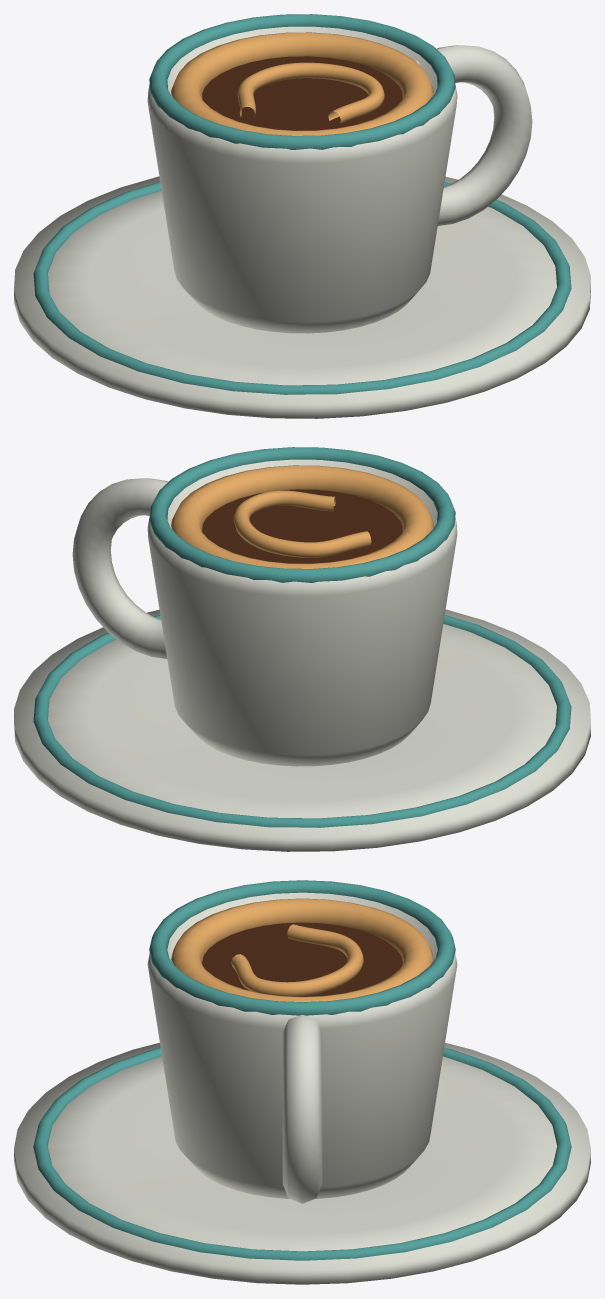
Rendered from espresso.glb.
The picture shows the model from 3 angles, top to bottom: view 1: azimuth 30°, elevation 25°; view 2: azimuth 150°, elevation 25°; view 3: azimuth 270°, elevation 25°; orthographic projection.
Visible parts, largest first — view 1: espresso_mesh; view 2: espresso_mesh; view 3: espresso_mesh.
Boxes of the visible parts, x1,y1,x2,y2 form: espresso_mesh: (14, 14, 590, 418); espresso_mesh: (14, 447, 590, 851); espresso_mesh: (14, 880, 590, 1284).
Bounding box in the file's own units: 0.27 × 0.1243 × 0.27.
